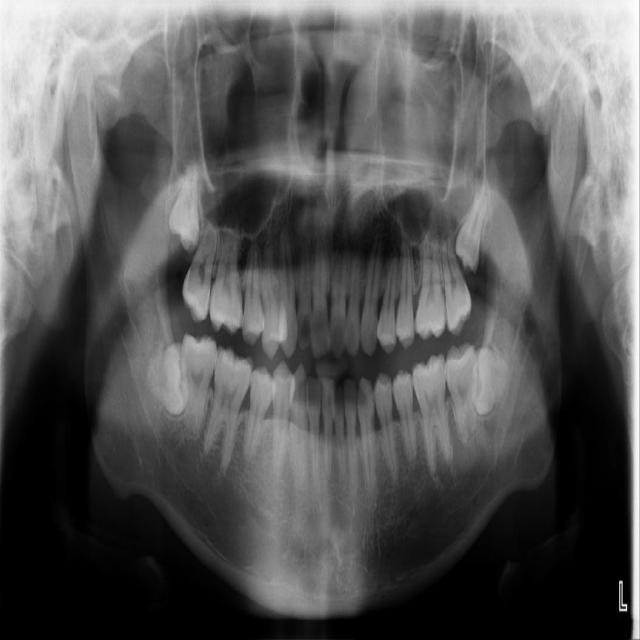3M ESPE Implant: (167, 163, 201, 254)
73: (560, 578, 572, 580)
BioHorizons Implant: (438, 236, 473, 335)
BioLife Implant: (451, 181, 492, 272)
Biomet 3i Implant: (469, 346, 510, 420)
Blue Sky Bio Implant: (445, 341, 477, 446)
Caries: (178, 216, 222, 324)
Implant: (172, 332, 219, 436)
Keystone Dental Implant: (145, 341, 191, 418)
